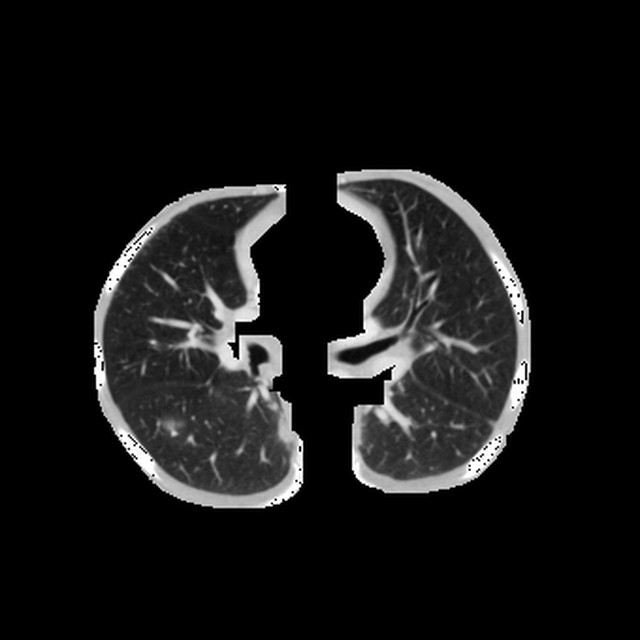PN: (162, 414, 181, 433)
